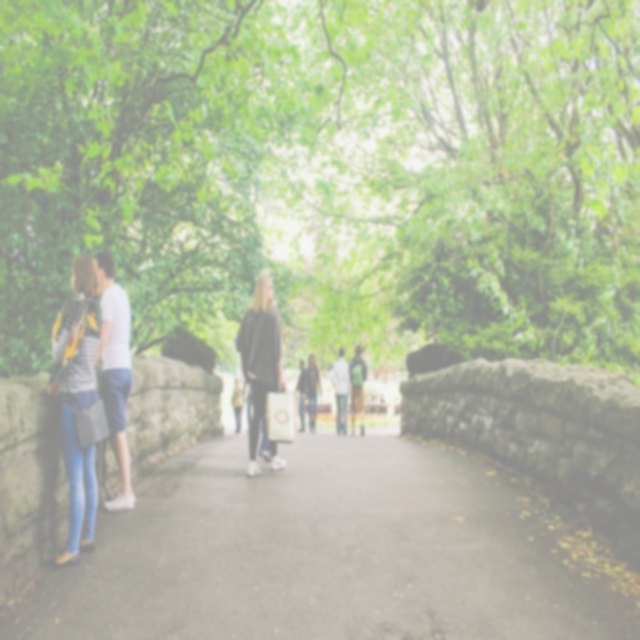pessoa: (45, 249, 112, 569), (92, 250, 138, 514), (234, 271, 288, 476), (266, 292, 286, 394), (348, 342, 368, 437), (331, 346, 352, 436), (304, 352, 324, 435), (294, 359, 307, 434), (368, 390, 403, 417), (230, 375, 244, 436), (242, 378, 252, 434)
